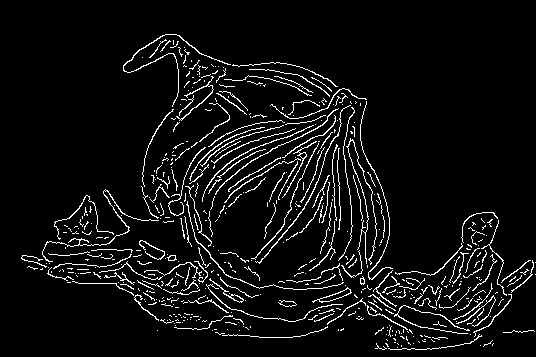red_onion: (181, 87, 391, 321), (110, 18, 333, 210)
